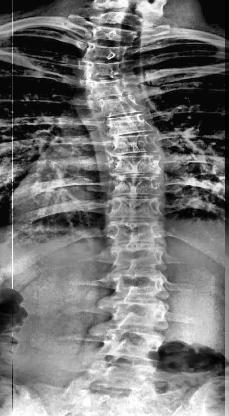Vertebrae: (96, 330, 166, 364), (108, 301, 170, 334), (112, 275, 176, 304), (106, 250, 174, 275), (103, 222, 168, 248), (109, 199, 167, 224), (108, 173, 166, 197), (109, 134, 161, 160), (110, 154, 162, 178), (107, 115, 157, 137), (96, 95, 146, 117), (88, 76, 132, 100), (86, 40, 130, 64), (82, 58, 124, 82), (92, 26, 137, 46)
